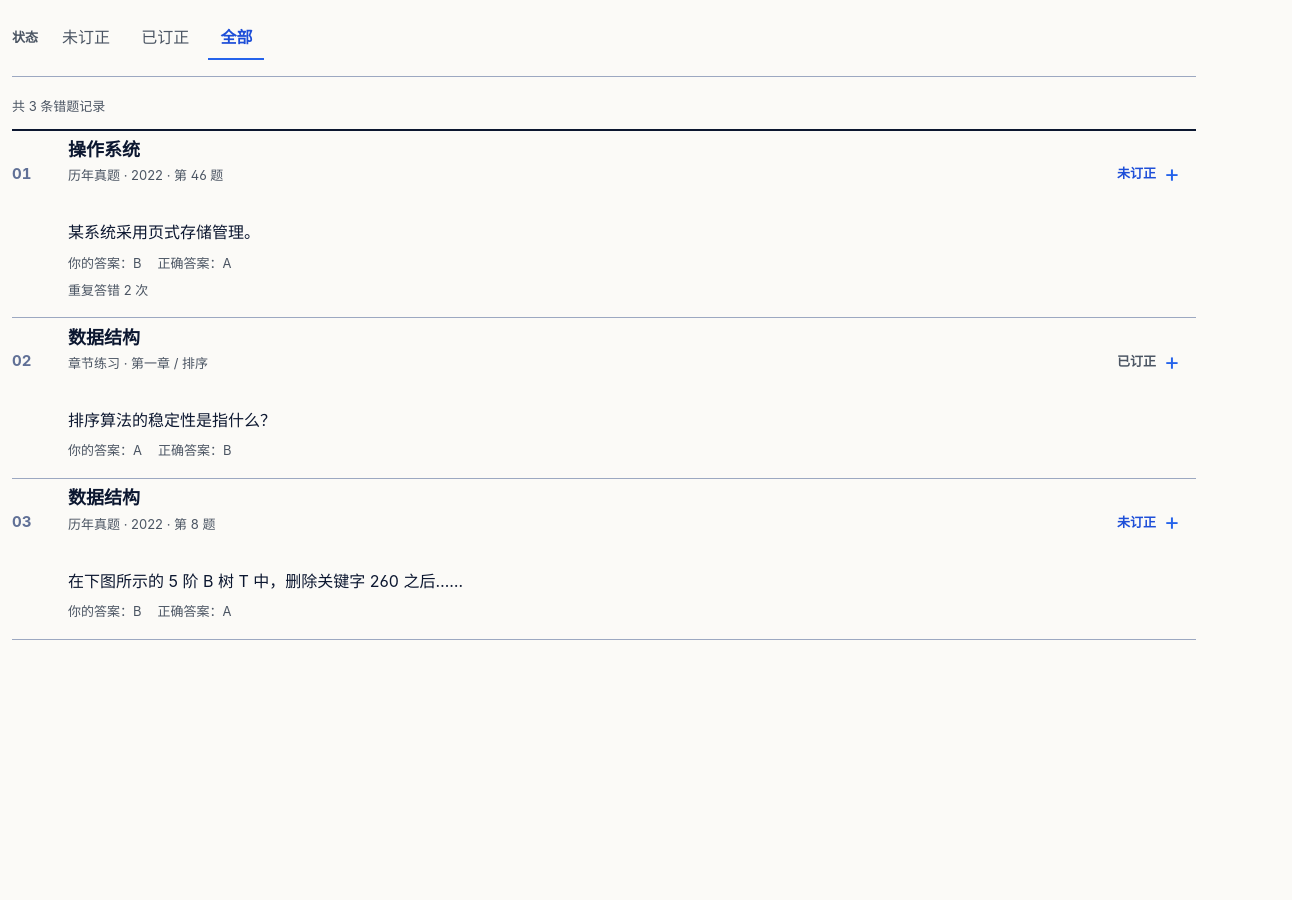
Test: Cs408WrongAnswerWorkspace › keeps the figure for a record whose question is about one
Click the button with aria-label "展开第 3 条错题记录": {"x": 104, "y": 498} [12,484,1196,560]
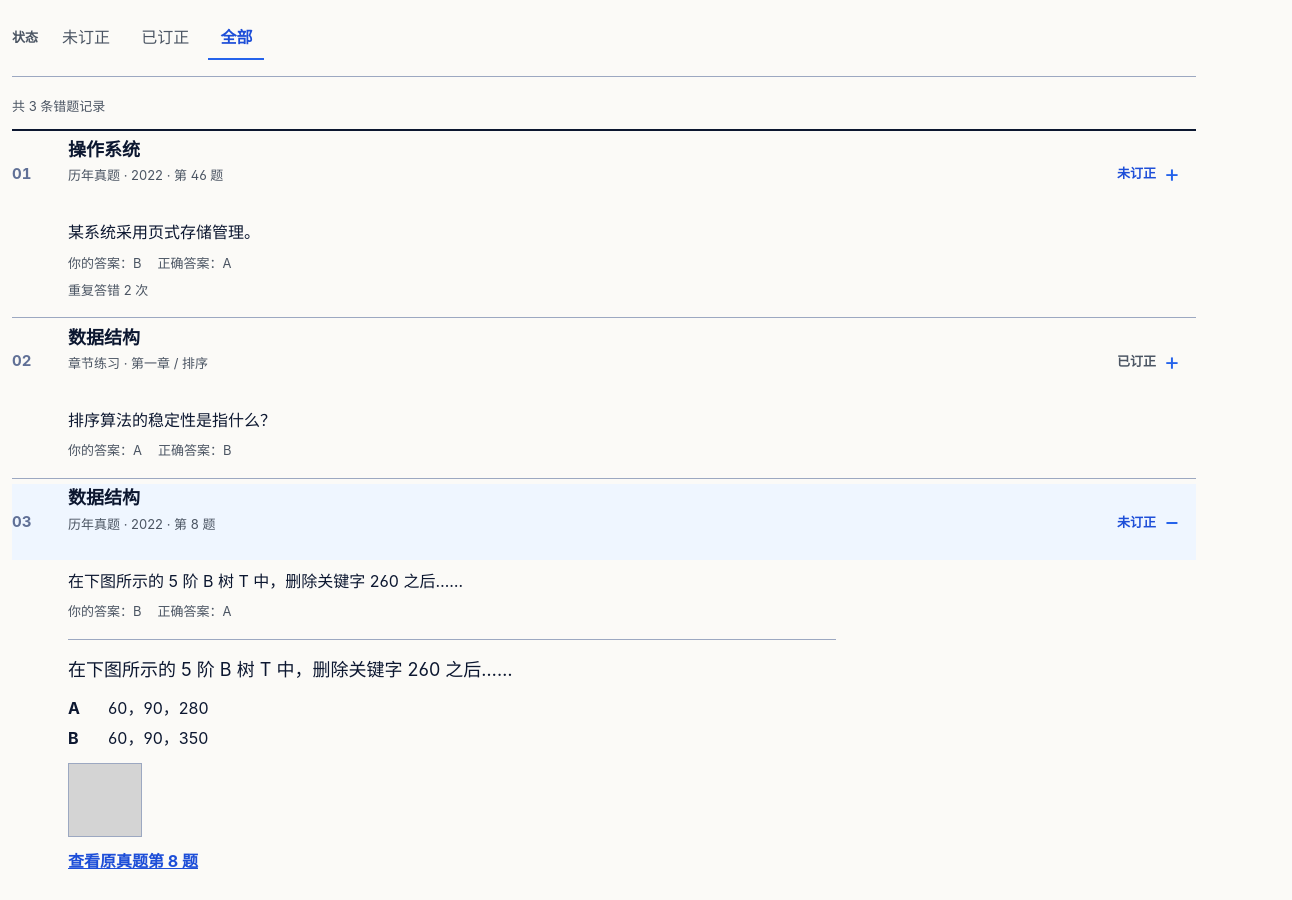
Result: the element with class "wrong-answer__detail" shows "在下图所示的 5 阶 B 树 T 中" at [68,659,512,680]
